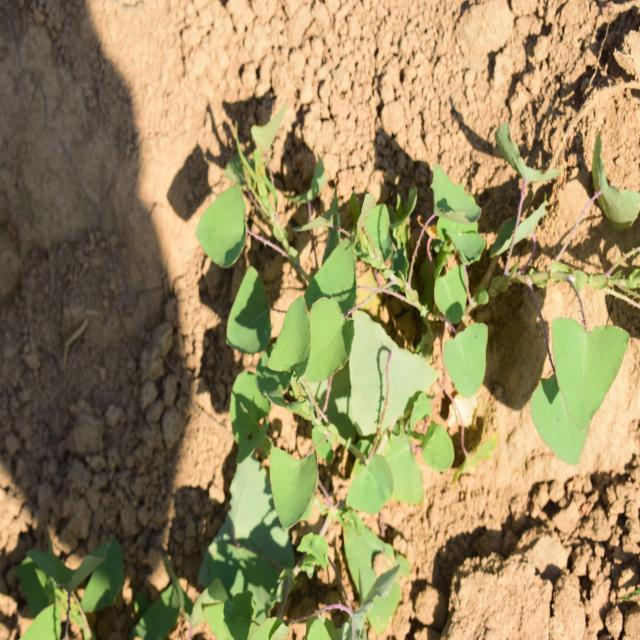Asiatic_Smartweed: (196, 113, 375, 408), (392, 148, 496, 496), (524, 301, 640, 463), (260, 417, 389, 557)
